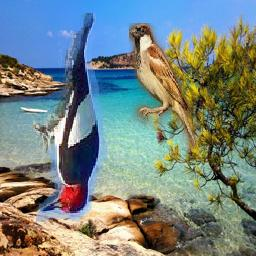Sparrow: (130, 23, 197, 149)
Woodpecker: (33, 14, 113, 229)
